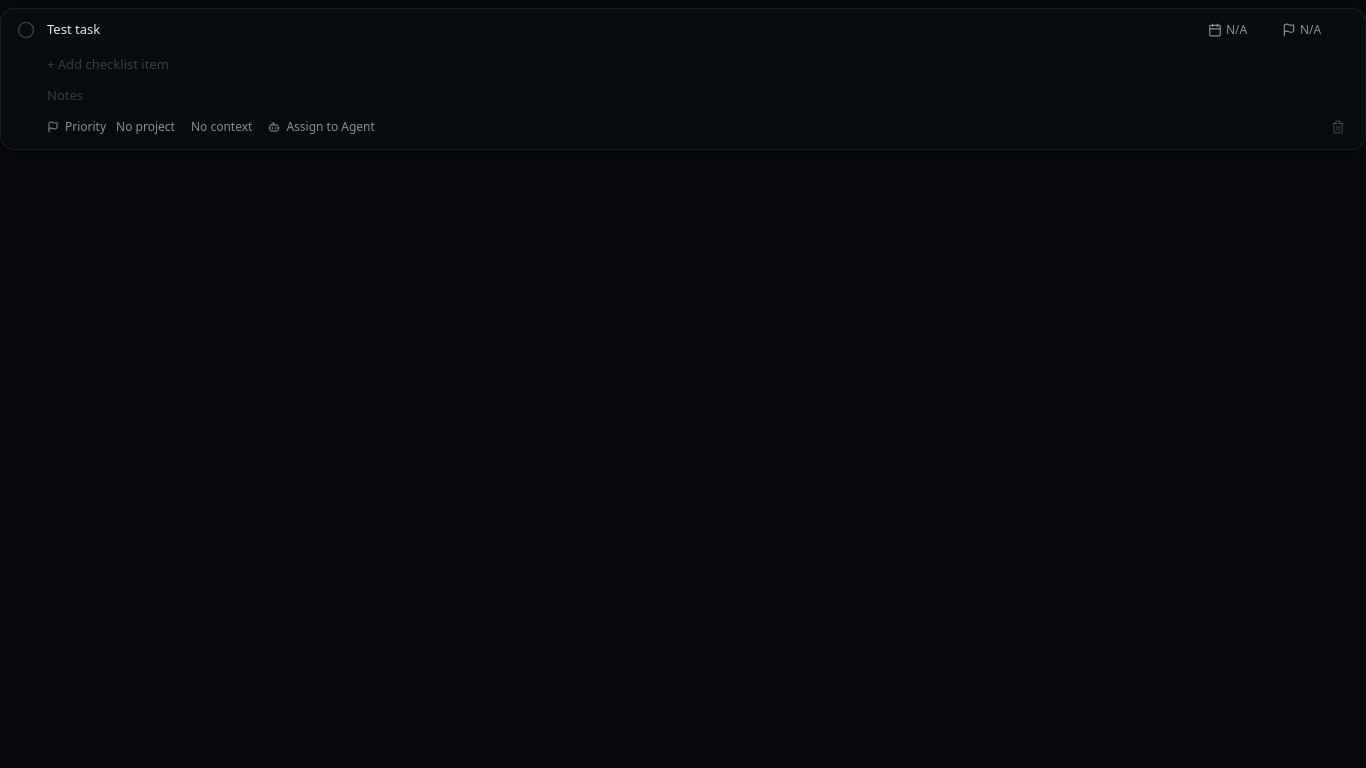
Test case: TaskItem context picker (expanded) › shows editable context picker with options when task has no project
Click the button "No context": (222, 127) [185,115,258,139]
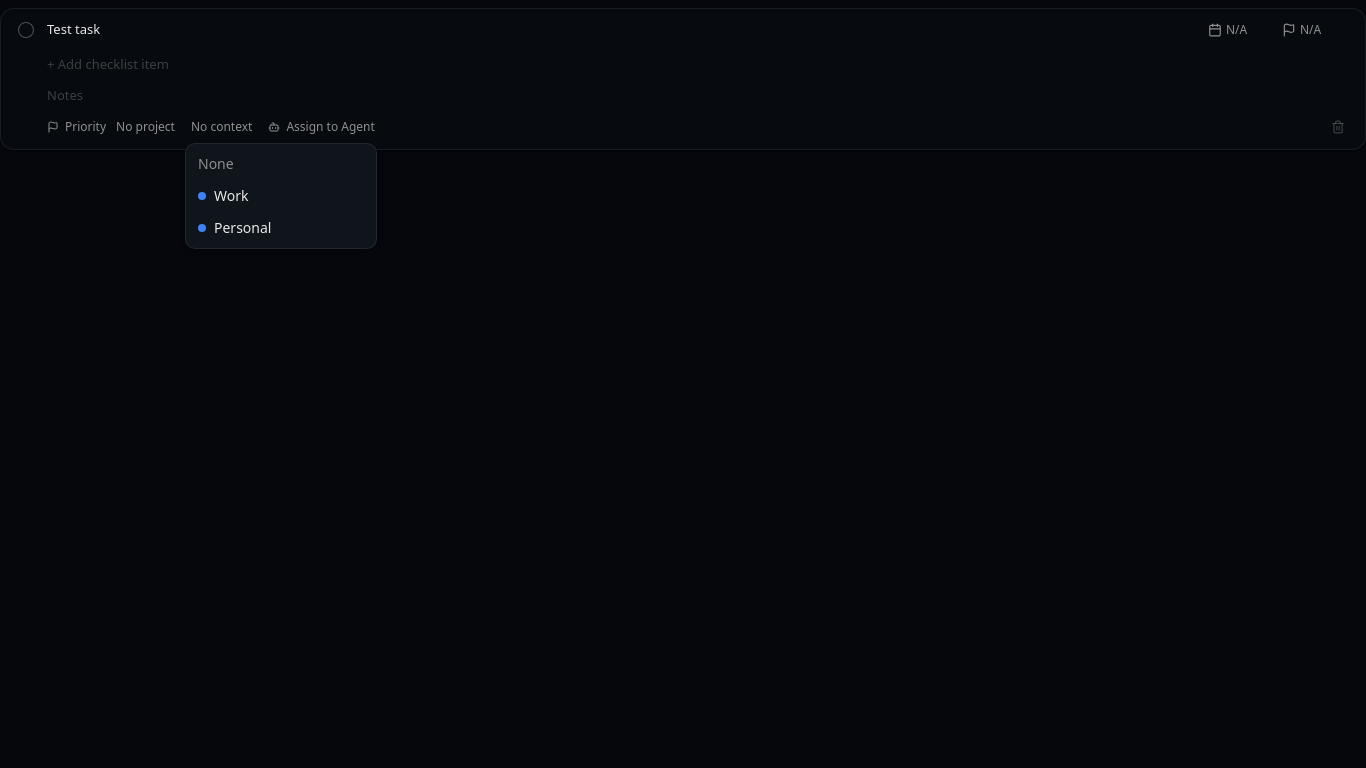
Now the option "Work" is shown, box [190,180,372,212]
Now the option "Personal" is shown, box [190,212,372,244]
